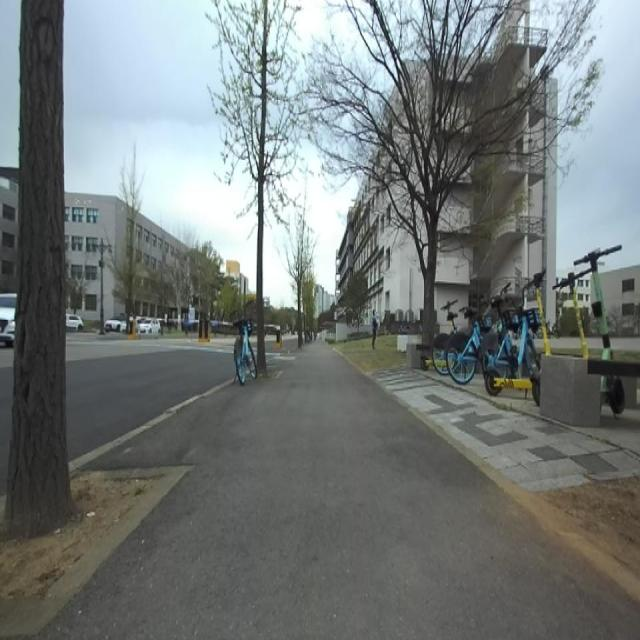sidewalk: (38, 340, 640, 640), (0, 466, 190, 638)
